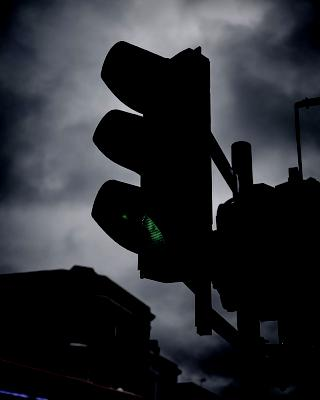International Road Signal Light: (92, 43, 234, 328)
